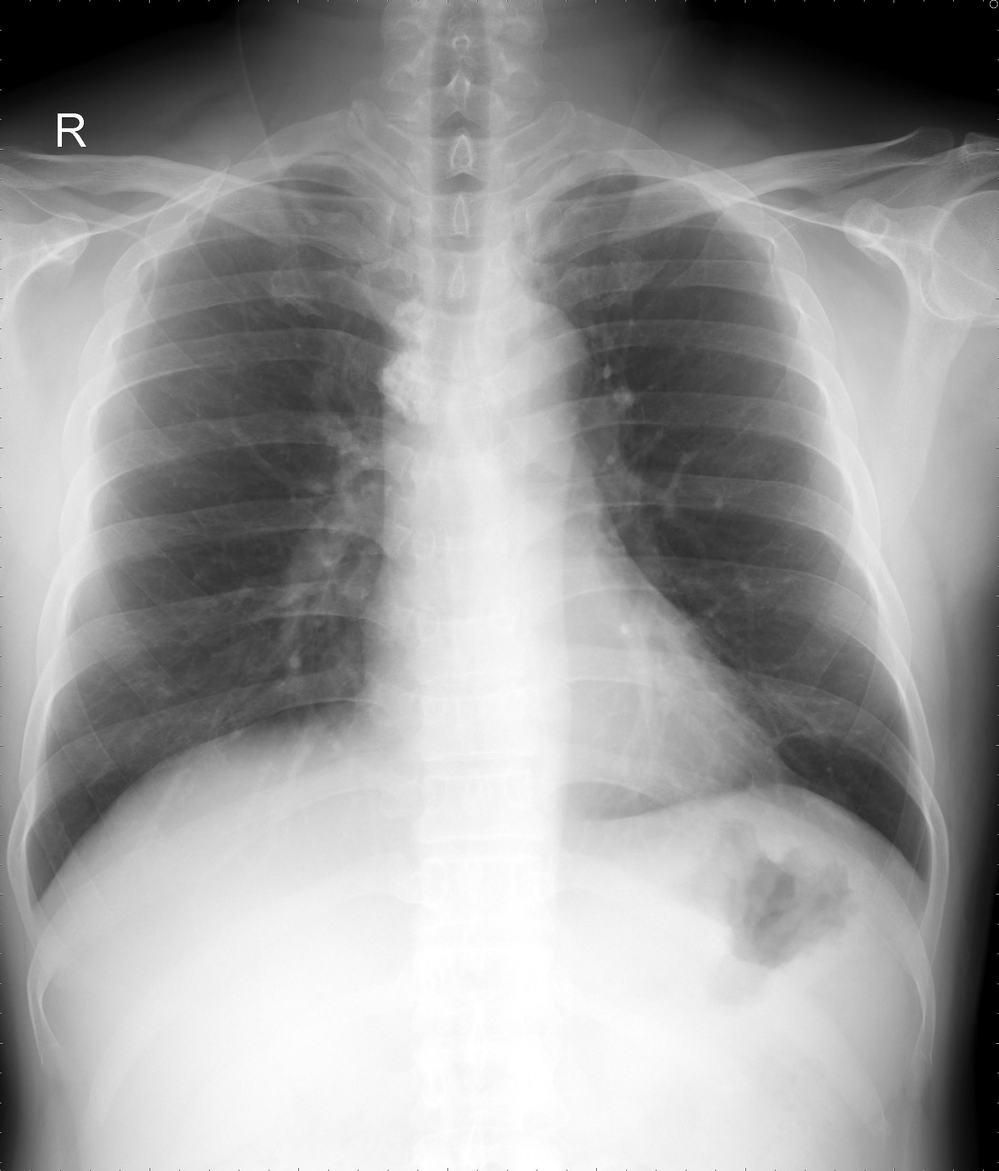Aortic enlargement: (464, 290, 595, 427)
